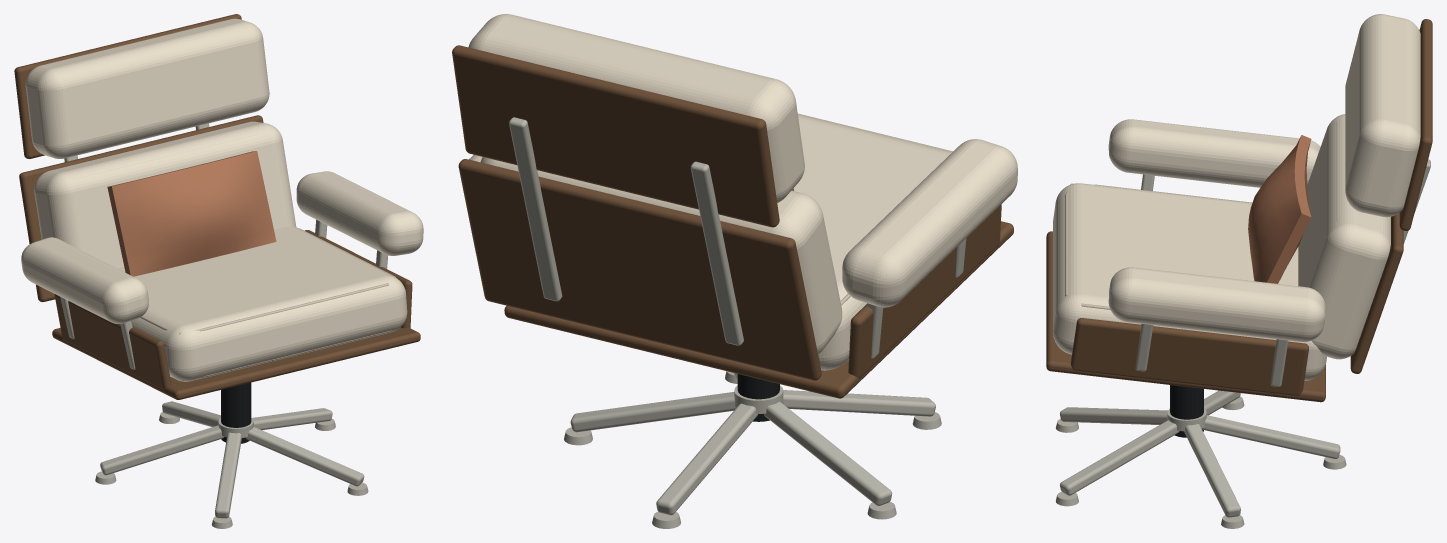
Rendered from atelier-molded-ivory.glb.
3 views of the same model, side by side, from view 1: azimuth 30°, elevation 25°; view 2: azimuth 150°, elevation 25°; view 3: azimuth 270°, elevation 25° (orthographic). The views are drawn at different scales.
Bounding box in the file's own units: 0.8695 × 0.934 × 0.823.
